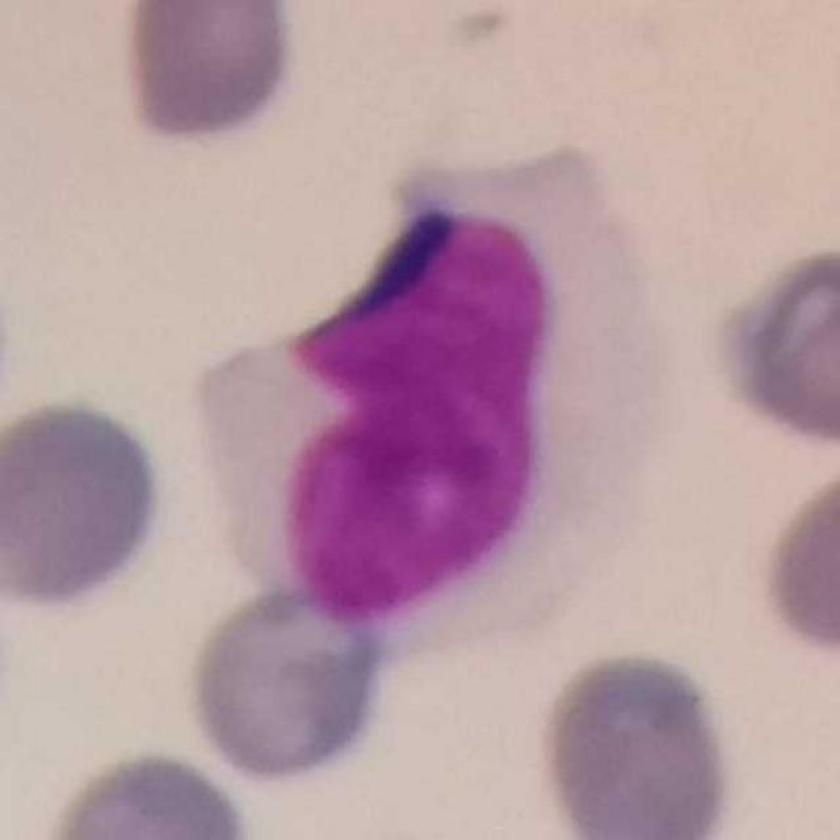monocyte: (194, 154, 673, 646)
